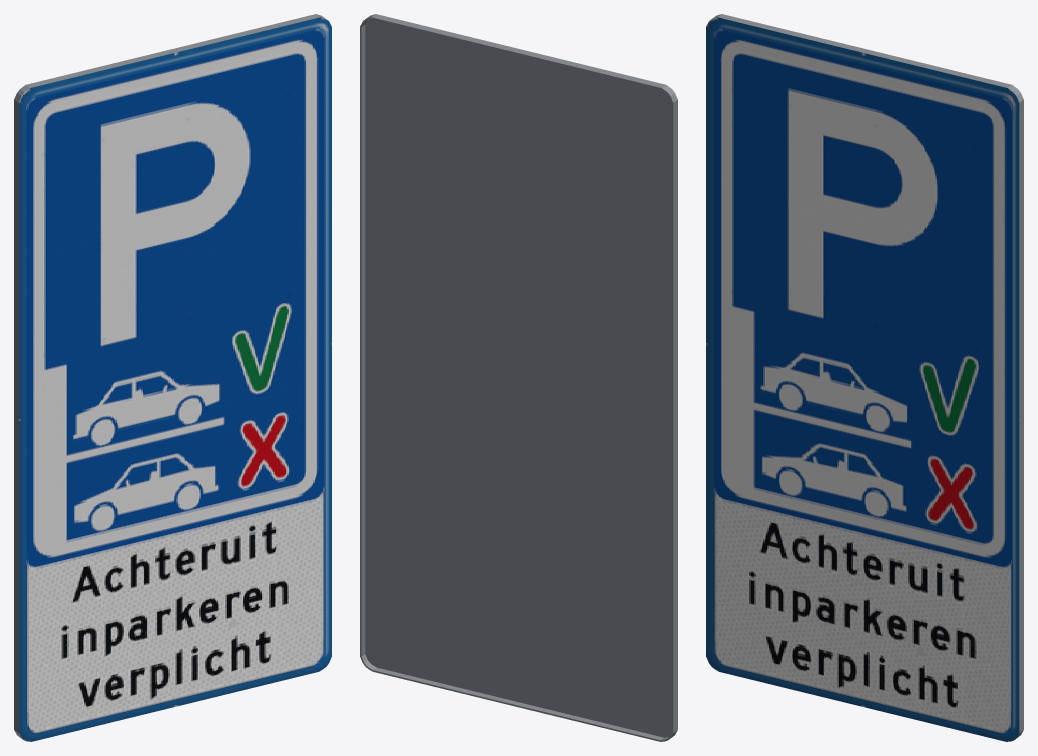
3 renders of one model, left to right at view 1: azimuth 30°, elevation 25°; view 2: azimuth 150°, elevation 25°; view 3: azimuth 330°, elevation 25°, orthographic.
Parts seen in each view (by area): view 1: cat_db6c626e0ca66874; view 2: cat_db6c626e0ca66874; view 3: cat_db6c626e0ca66874.
Boxes of the visible parts, <box> form: cat_db6c626e0ca66874: <box>14,14,331,741</box>; cat_db6c626e0ca66874: <box>360,14,677,741</box>; cat_db6c626e0ca66874: <box>706,14,1023,741</box>.
Size of the model in its own units: 0.6 by 0.015 by 1.2.
Materials: 2 (1 with a texture image).
